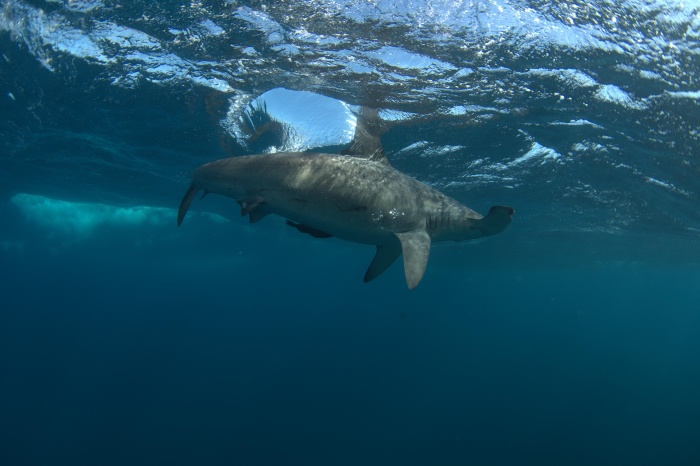Hammer: (142, 76, 591, 316)
